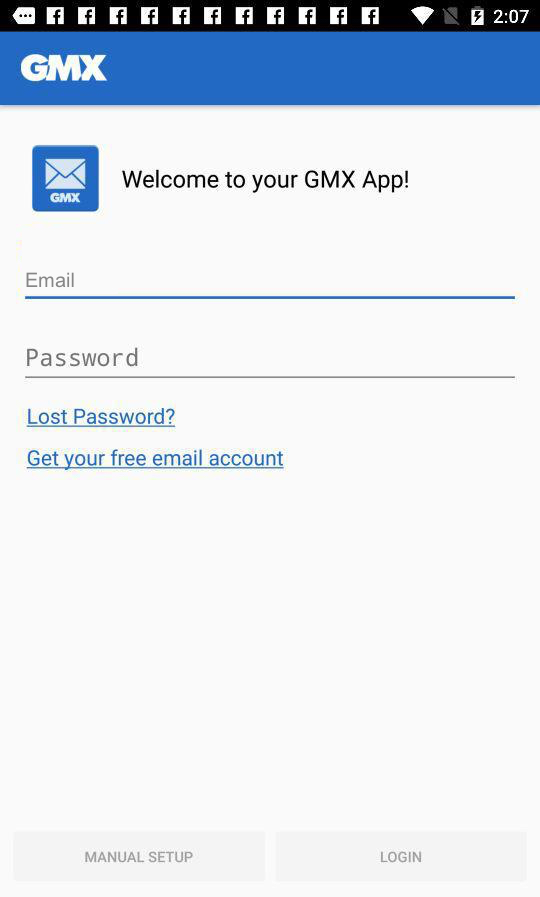EditText: (25, 347, 516, 379), (25, 272, 515, 301)
Image: (32, 145, 100, 213), (21, 54, 109, 83)
Text: (122, 169, 409, 195), (27, 448, 285, 472), (27, 408, 177, 428)
TextButton: (14, 830, 266, 882), (279, 831, 527, 883)
Toolbar: (1, 33, 540, 107)
UpperTaskBar: (1, 1, 540, 33)
